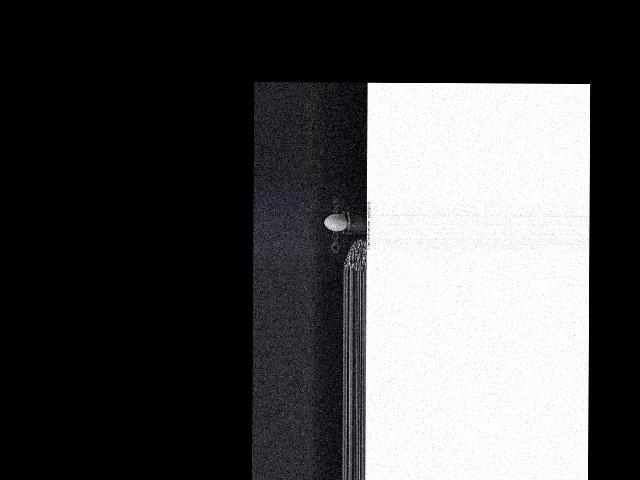egg: (324, 213, 348, 231)
